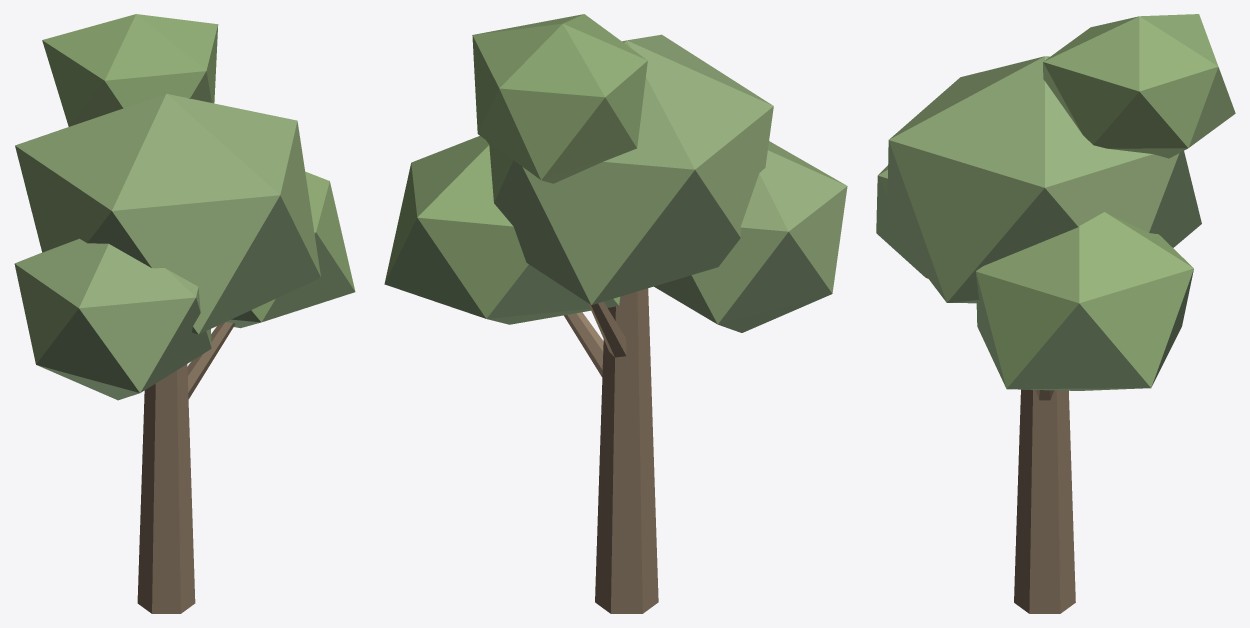
Rendered from rail_tree_round.glb.
3 renders of one model, left to right at view 1: azimuth 30°, elevation 25°; view 2: azimuth 150°, elevation 25°; view 3: azimuth 270°, elevation 25°, orthographic. The views are drawn at different scales.
Bounding box in the file's own units: 2.43 × 3.81 × 2.09.
